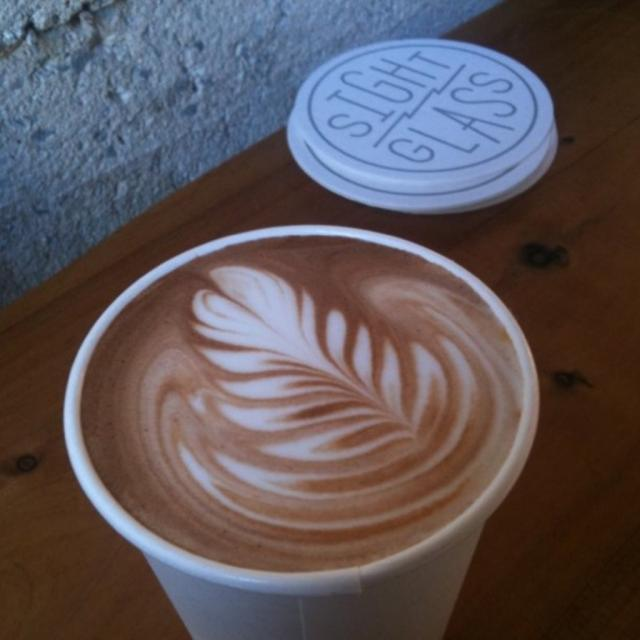Coffee: (80, 234, 529, 575)
